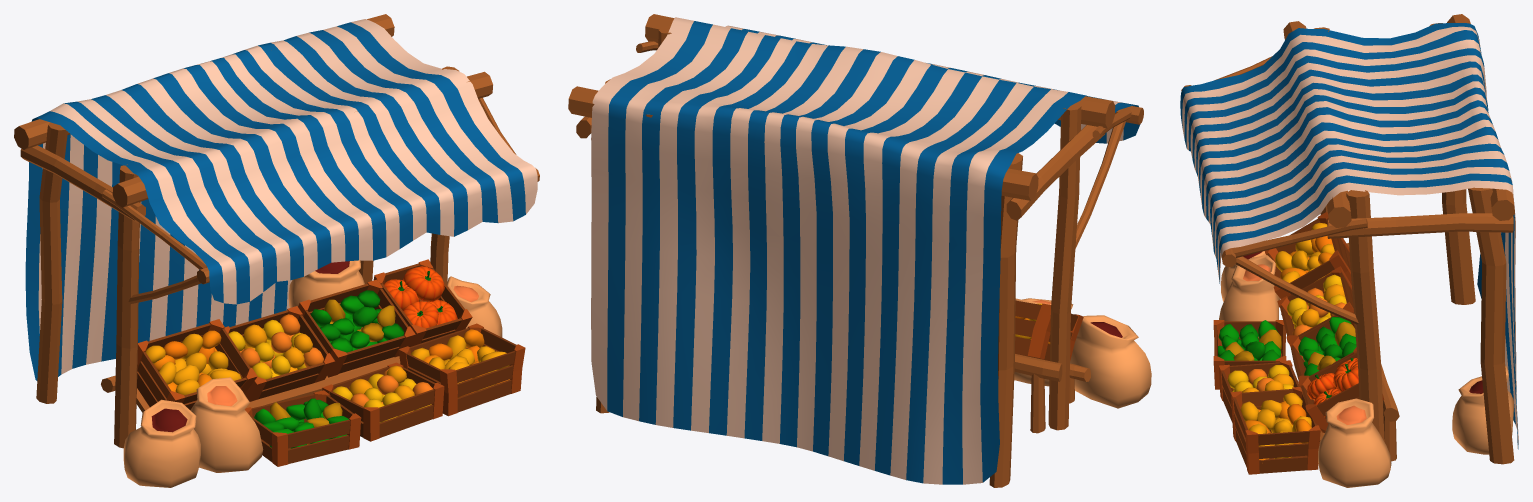
The model's file is frutas.obj.
The picture shows the model from 3 angles, left to right: view 1: azimuth 30°, elevation 25°; view 2: azimuth 150°, elevation 25°; view 3: azimuth 270°, elevation 25°; orthographic projection. The views are drawn at different scales.
Parts seen in each view (by area): view 1: Cube.057; view 2: Cube.057; view 3: Cube.057.
Boxes of the visible parts, x1,y1,x2,y2 form: Cube.057: (14,14,539,487); Cube.057: (568,14,1151,487); Cube.057: (1180,14,1518,487).
Size of the model in its own units: 2.72 by 1.78 by 1.92.
Materials: 1 (1 with a texture image).
